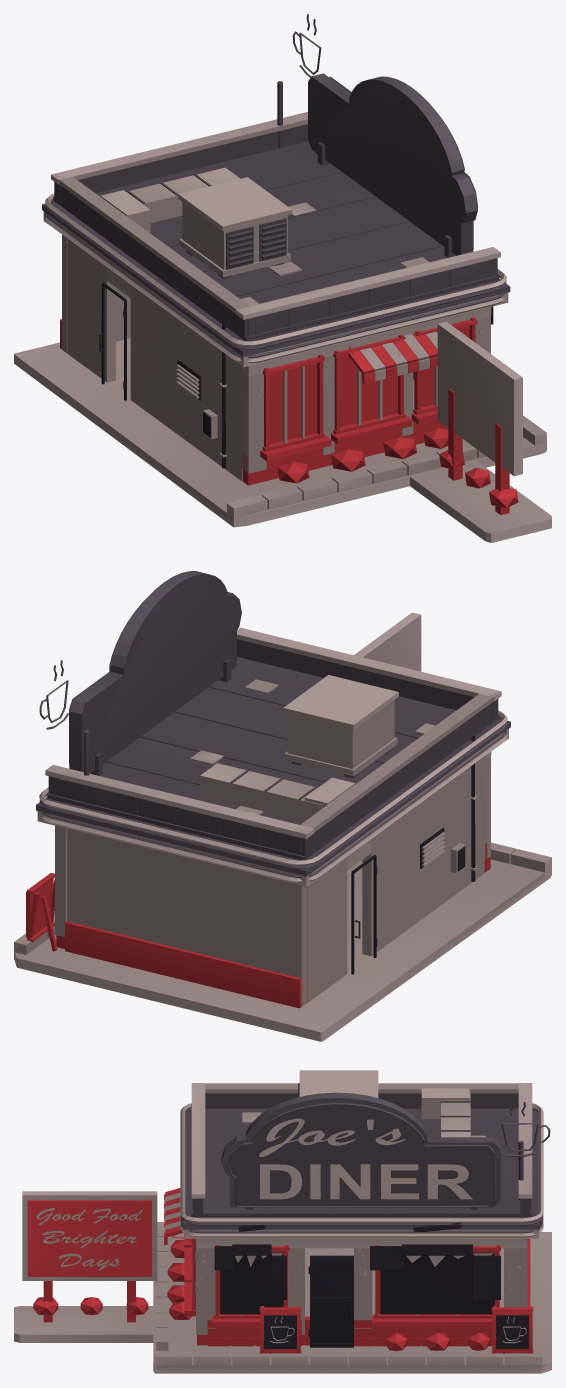
The model's file is bld.joes-diner.w3.glb.
3 renders of one model, top to bottom at view 1: azimuth 30°, elevation 25°; view 2: azimuth 150°, elevation 25°; view 3: azimuth 270°, elevation 25°, orthographic. The views are drawn at different scales.
Parts seen in each view (by area): view 1: roof, object 4, door_service; view 2: roof, object 4, door_service; view 3: object 4, roof, door_front.
Boxes of the visible parts, left/top/right/bottom form: roof: left=42, top=14, right=510, bottom=367; object 4: left=14, top=234, right=551, bottom=542; door_service: left=99, top=283, right=126, bottom=400; roof: left=36, top=571, right=510, bottom=886; object 4: left=14, top=612, right=551, bottom=1041; door_service: left=351, top=855, right=377, bottom=974; object 4: left=14, top=1188, right=551, bottom=1373; roof: left=180, top=1070, right=550, bottom=1238; door_front: left=308, top=1255, right=353, bottom=1347.
Bounding box in the file's own units: 6.97 × 6.32 × 11.74.
